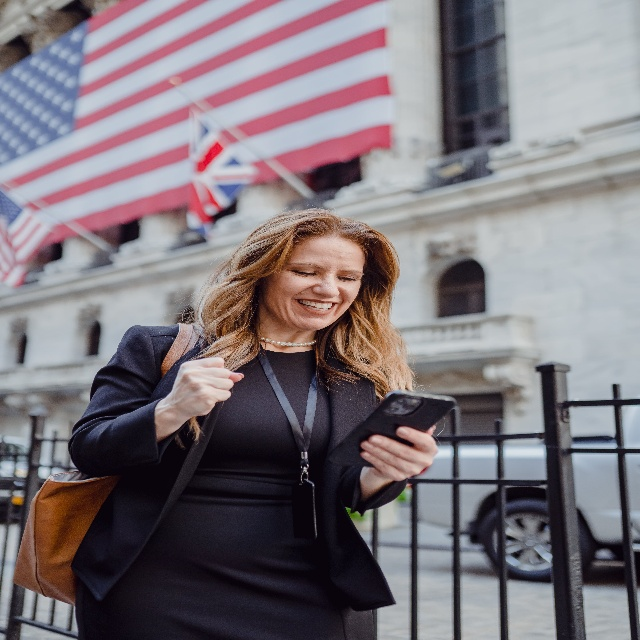Sin_guantes: (360, 419, 439, 483), (171, 352, 245, 418)
